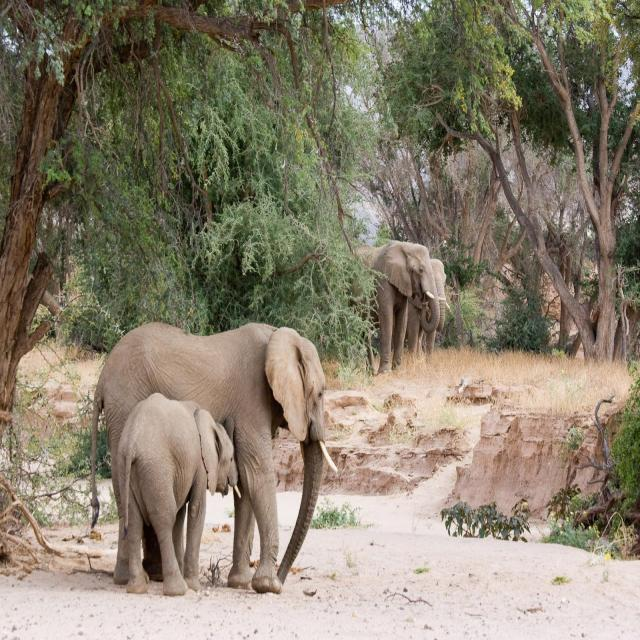Elephant: (90, 323, 326, 600), (108, 391, 241, 595), (346, 239, 448, 371)
